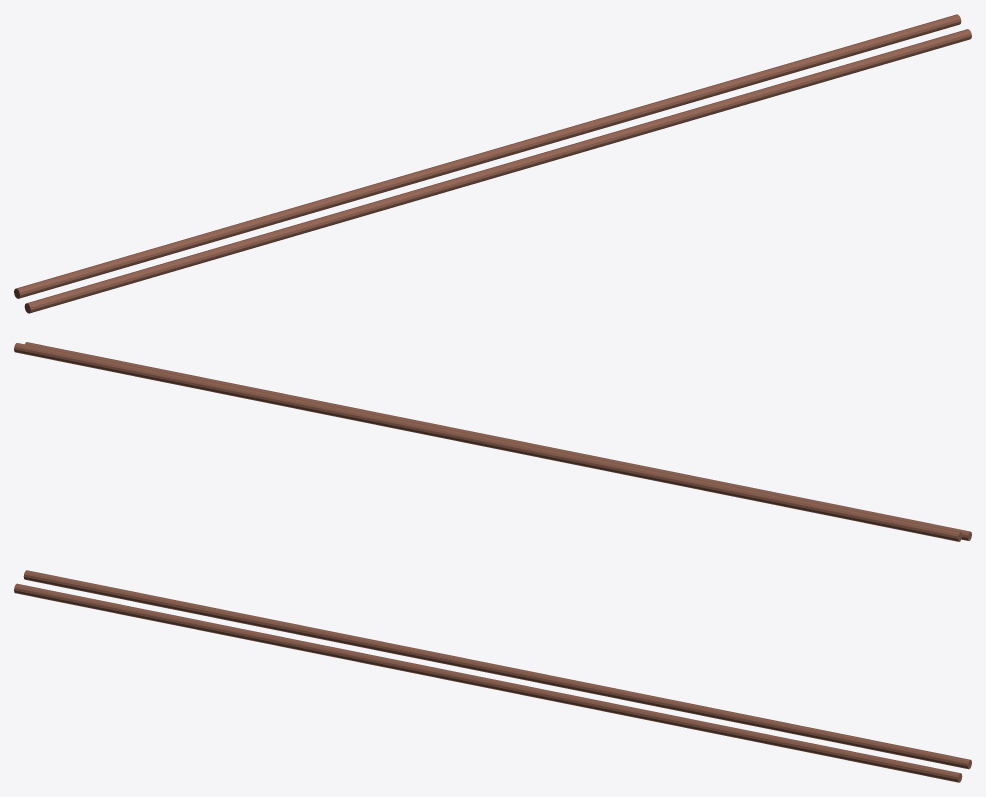
File: EXTRA_chopsticks.glb
The picture shows the model from 3 angles, top to bottom: view 1: azimuth 30°, elevation 25°; view 2: azimuth 150°, elevation 25°; view 3: azimuth 330°, elevation 25°; orthographic projection. The views are drawn at different scales.
Parts seen in each view (by area): view 1: ChopsticksExtra; view 2: ChopsticksExtra; view 3: ChopsticksExtra.
Part boxes in pixels (left/top/right/bottom): ChopsticksExtra: left=14, top=14, right=971, bottom=313; ChopsticksExtra: left=14, top=342, right=971, bottom=541; ChopsticksExtra: left=14, top=570, right=971, bottom=782.
Size of the model in its own units: 0.7482 by 0.012 by 0.0809.
